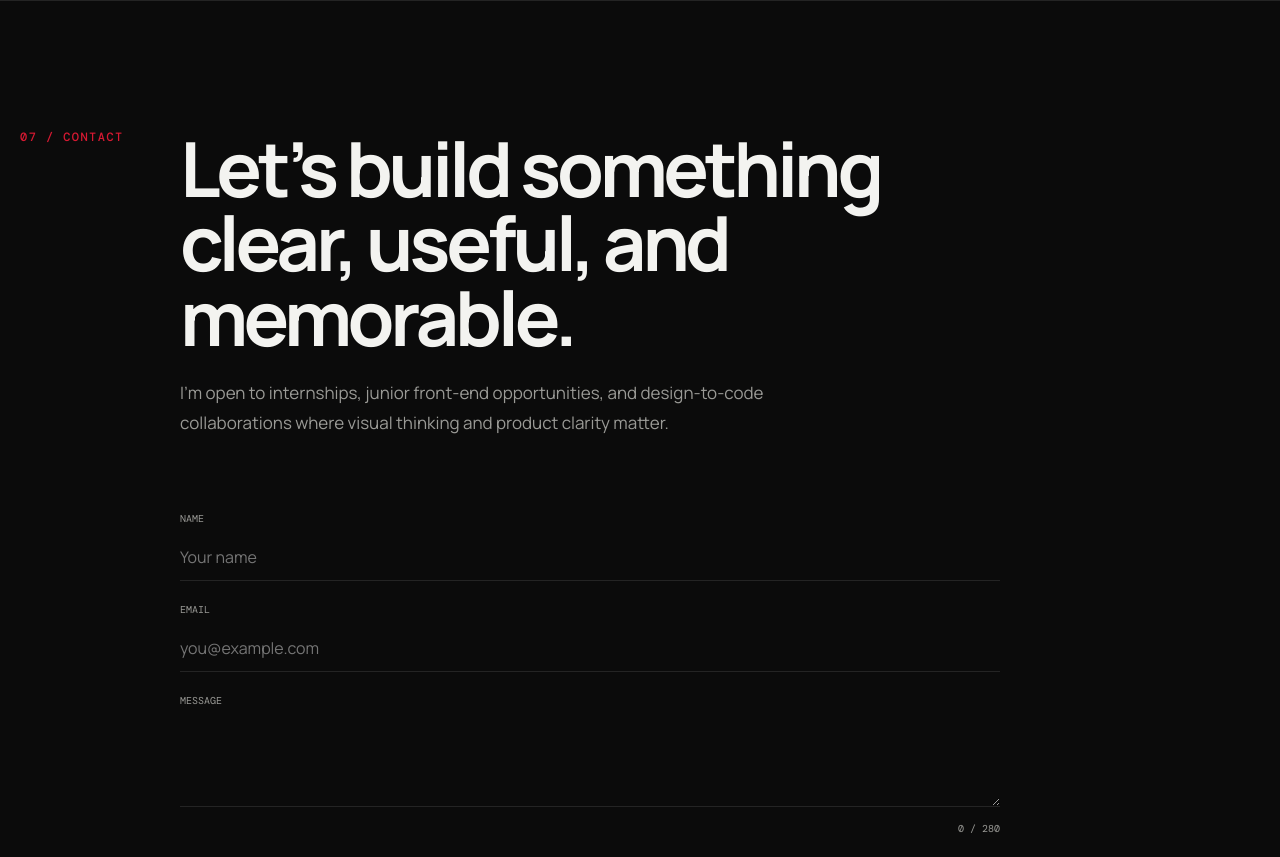
Scenario: contact form › submits successfully and shows a confirmation message
Type "Luca" into the field labelled "Name" at (590, 557), box [180,534,1000,581]
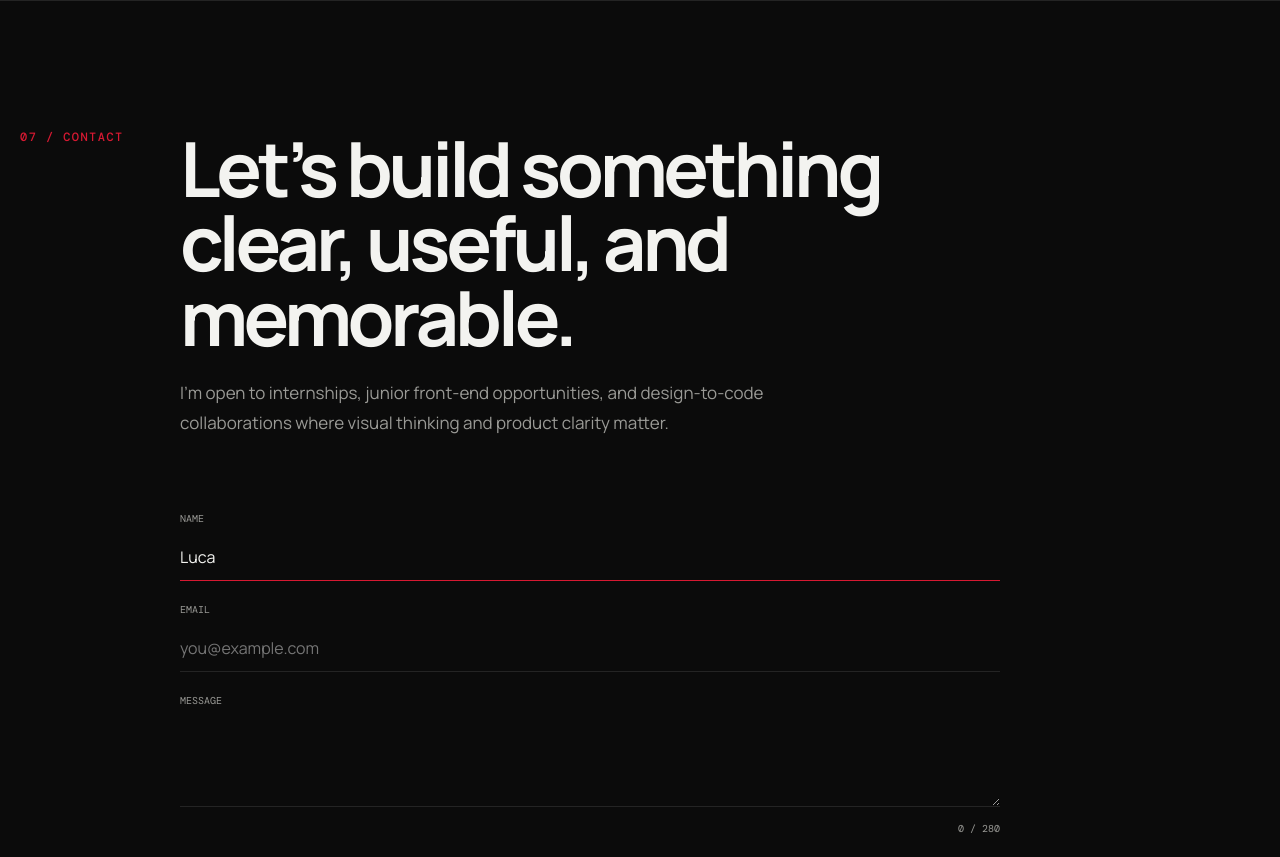
Type "luca@example.com" into the field labelled "Email" at (590, 648), box [180,625,1000,672]
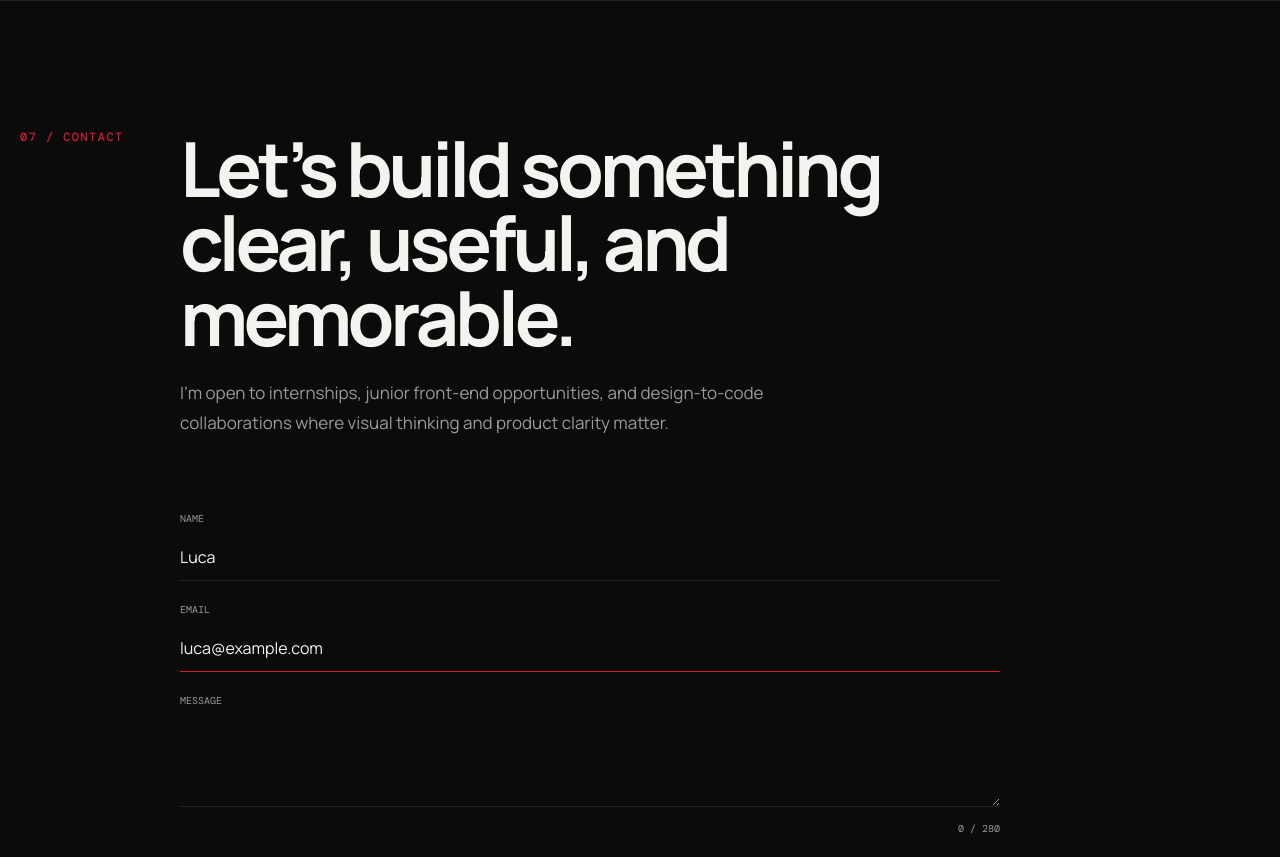
Type "Hello, I would like to talk about a project." into the text box labelled "Message 0 / 280" at (590, 761), box [180,716,1000,807]
(page scrolled)
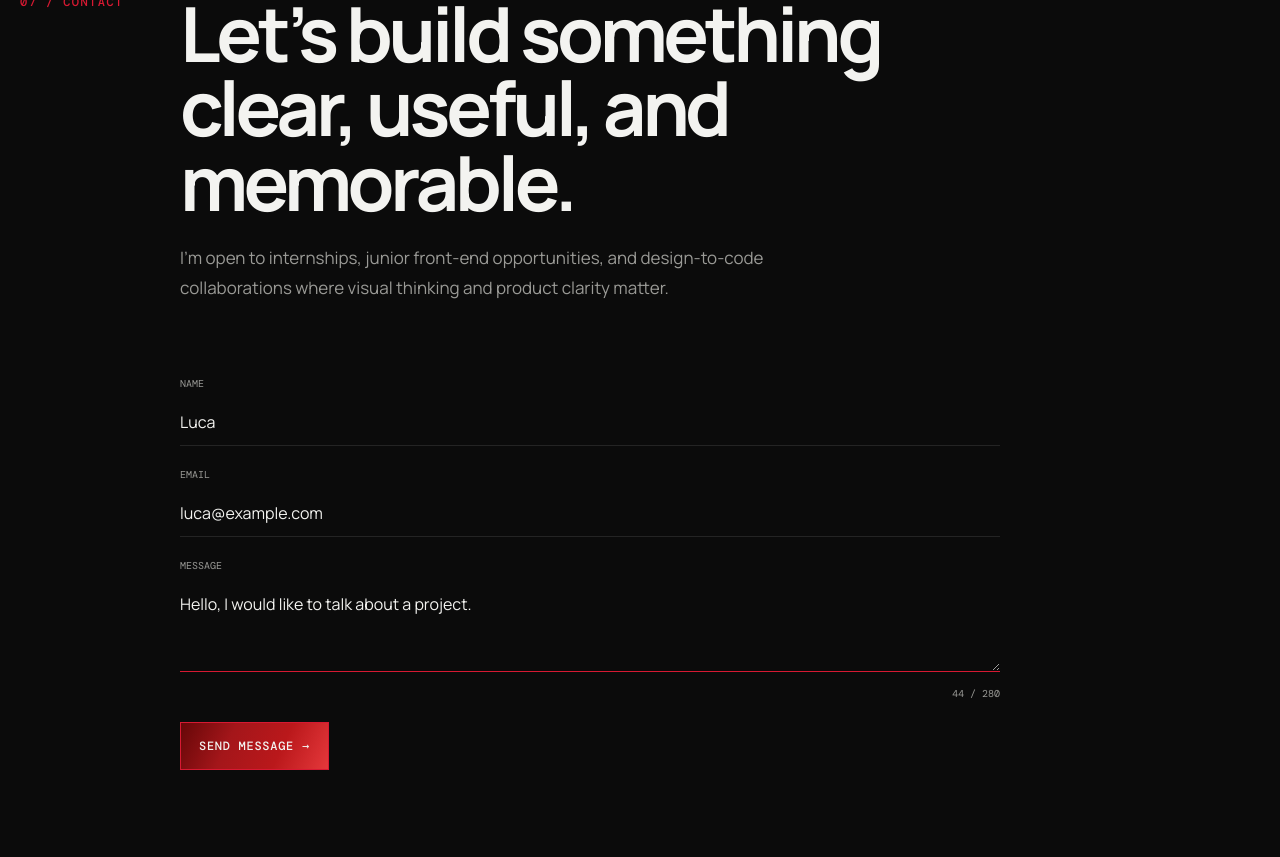
Click the button "Send message →" at (254, 746), box [180,722,329,770]
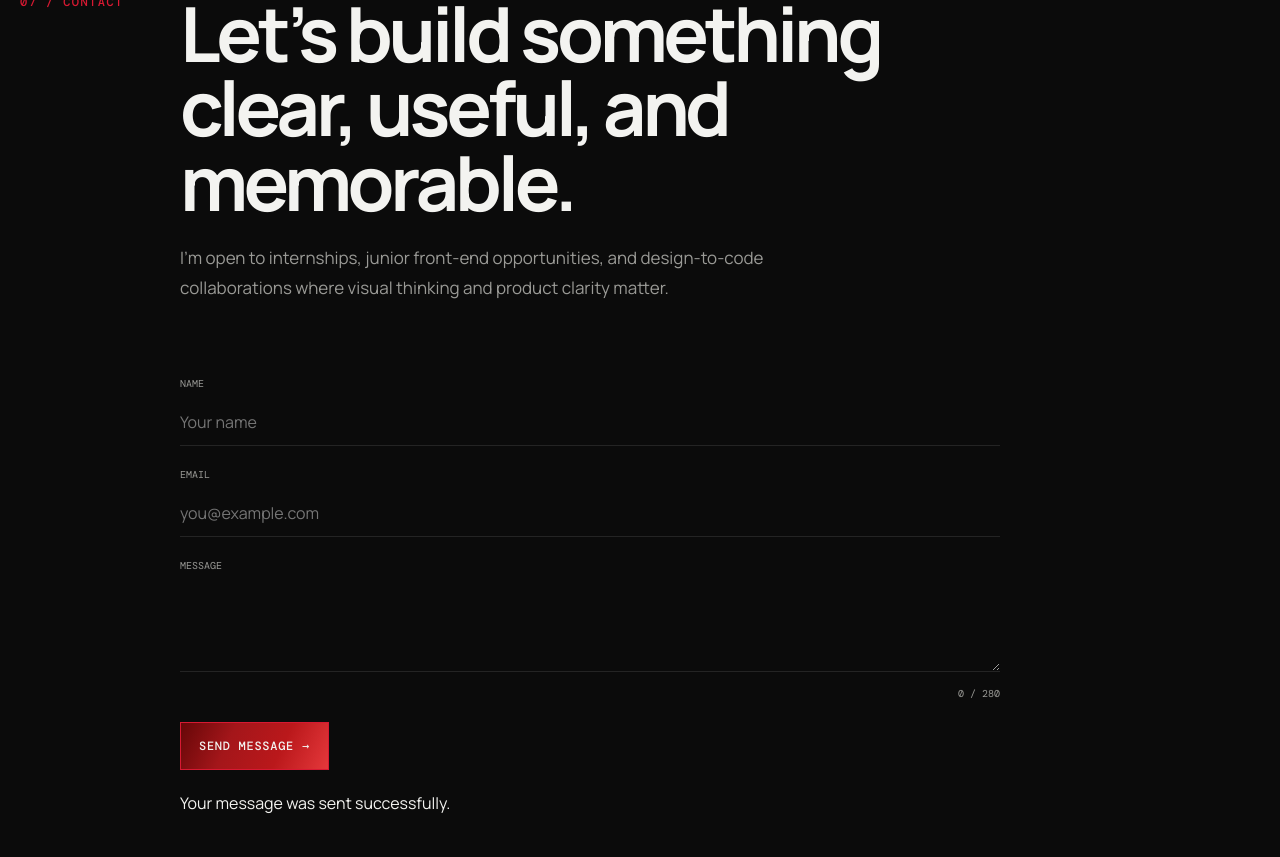
Now the message shows "Your message was sent successfully", box [180,792,450,814]
